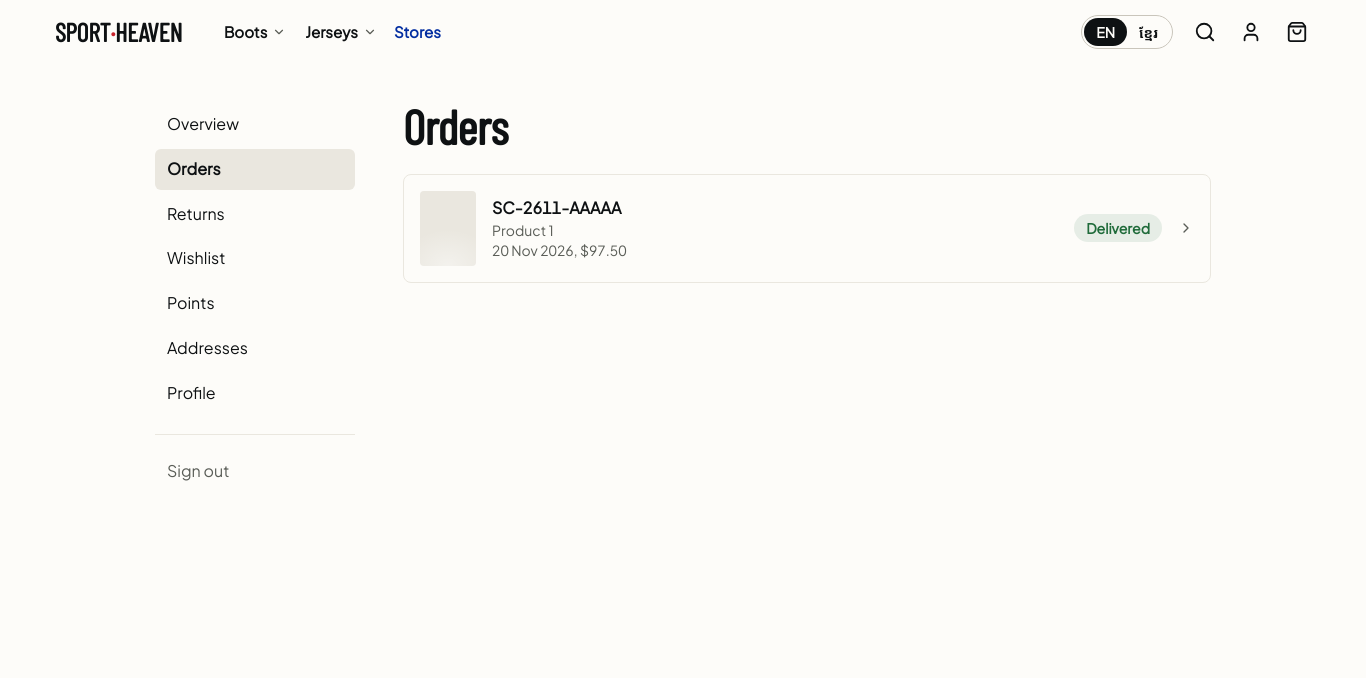
Test case: account › shows an order and starts a return for a delivered item
Click the link "SC-2611-AAAAA Product 1 20 Nov 2026, $97.50 Delivered" at point(448, 228), box x1=404 y1=175 x2=1210 y2=282
(page scrolled)
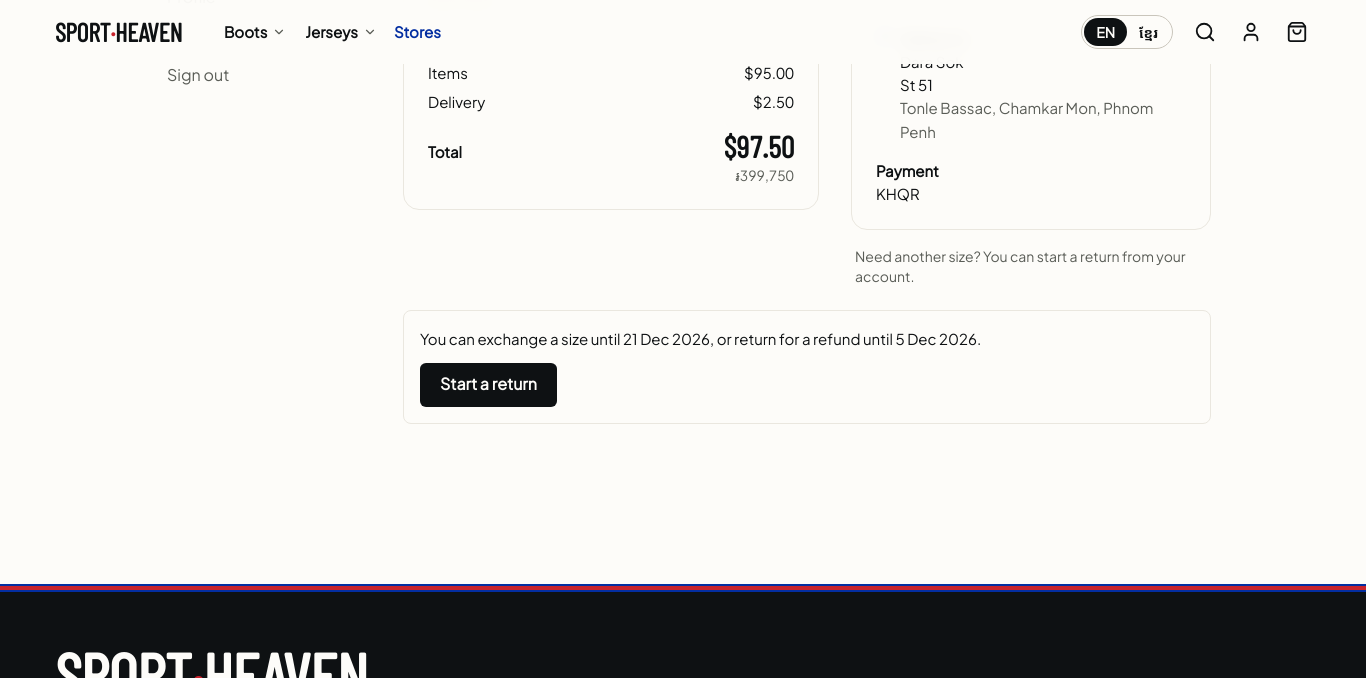
Click the link "Start a return" at point(488, 385), box x1=420 y1=363 x2=557 y2=407
(page scrolled)
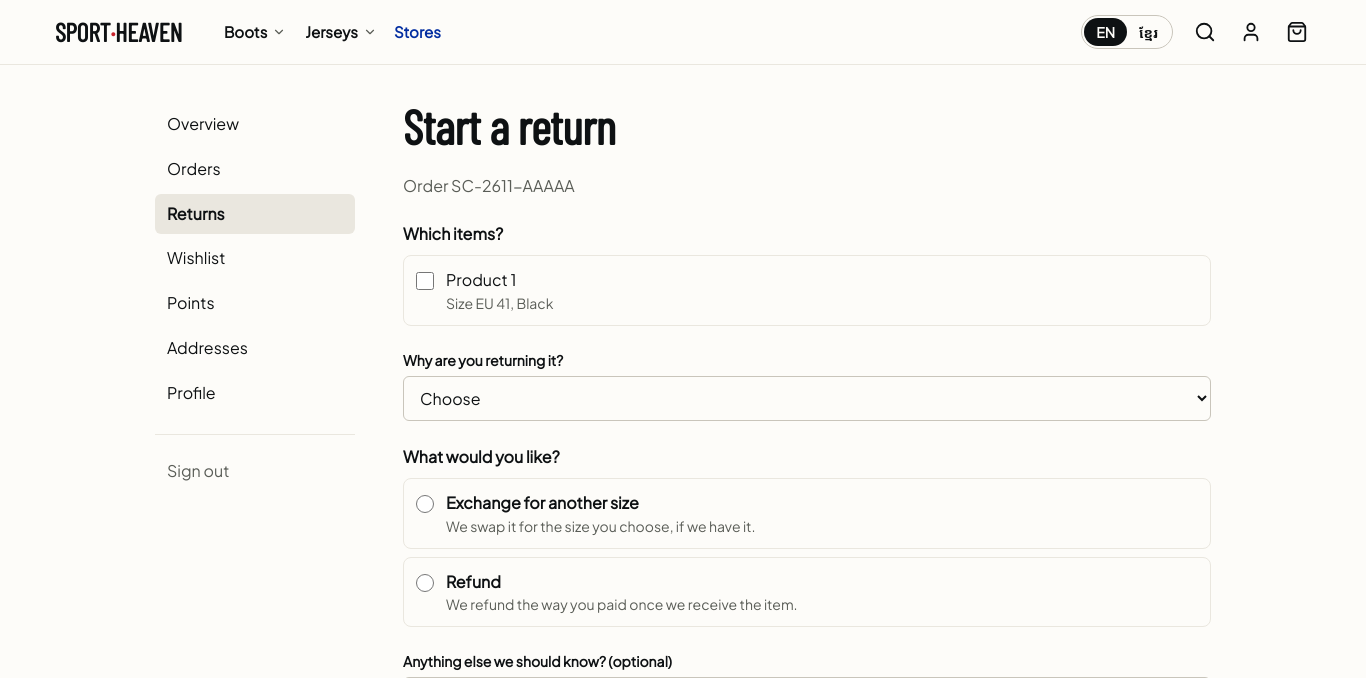
Click the checkbox labelled "Product 1 Size EU 41, Black" at point(425, 281), box x1=416 y1=272 x2=434 y2=290
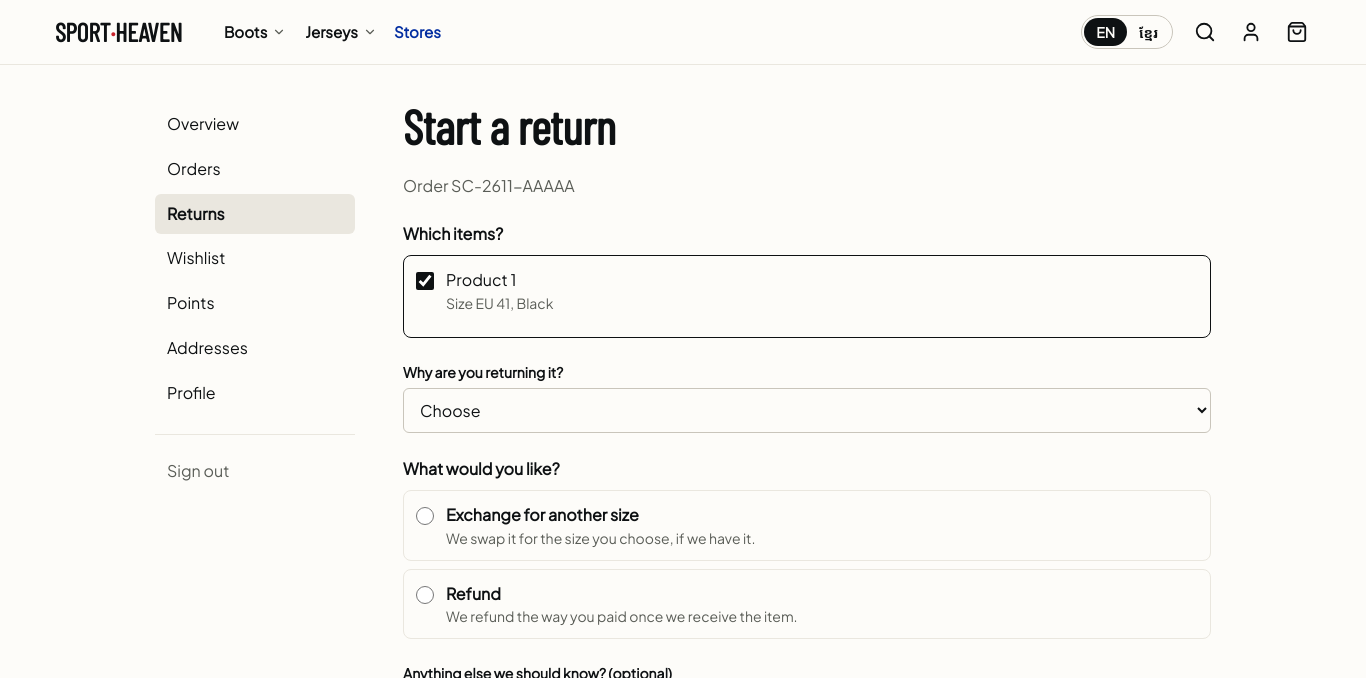
Select "Too small" in the dropdown labelled "Why are you returning it?" at point(807, 410), box x1=403 y1=388 x2=1211 y2=433
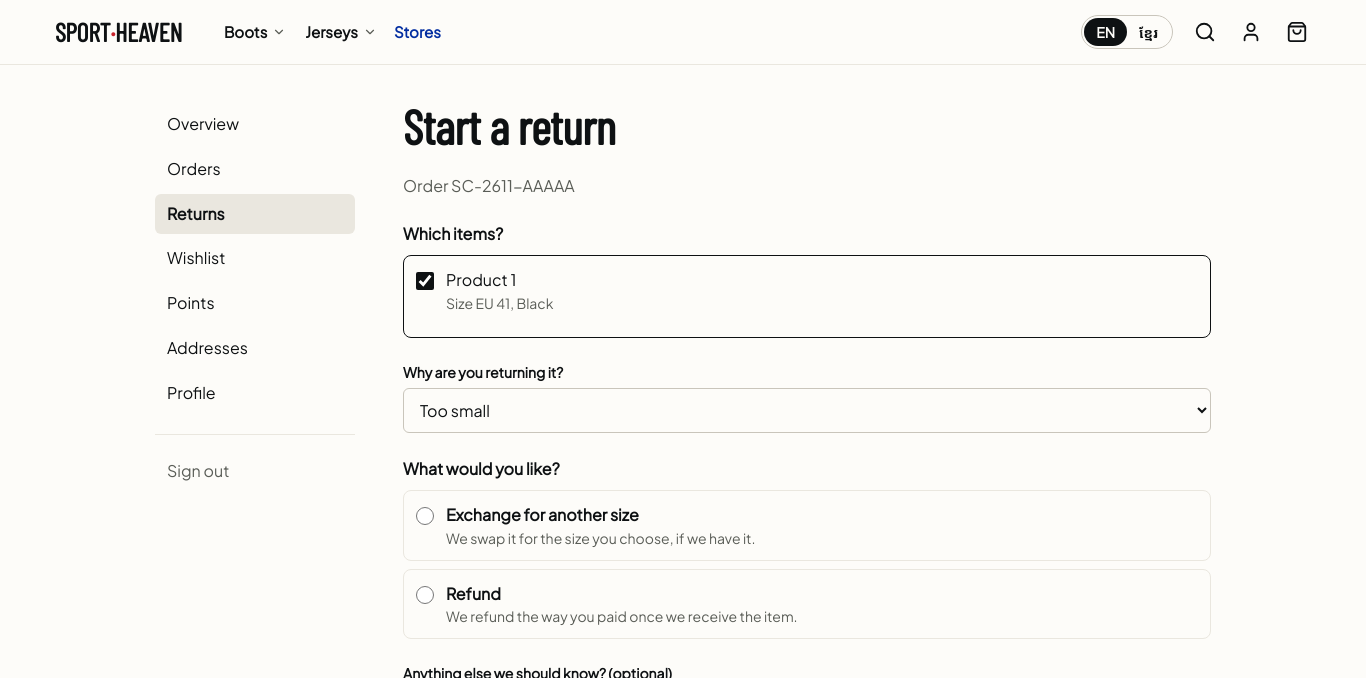
Click the radio button labelled "Refund We refund the way you paid once we receive the item." at point(425, 595), box x1=416 y1=586 x2=434 y2=604
(page scrolled)
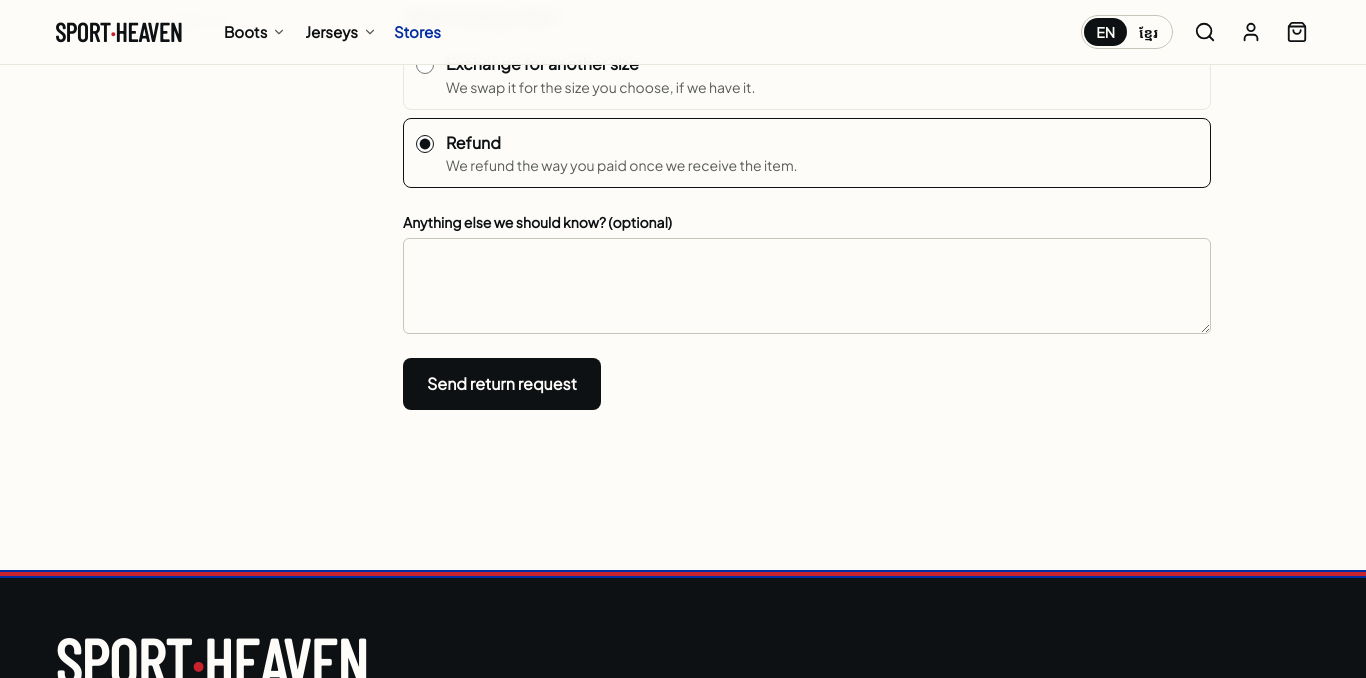
Click the button "Send return request" at point(502, 384), box x1=403 y1=358 x2=601 y2=410
(page scrolled)
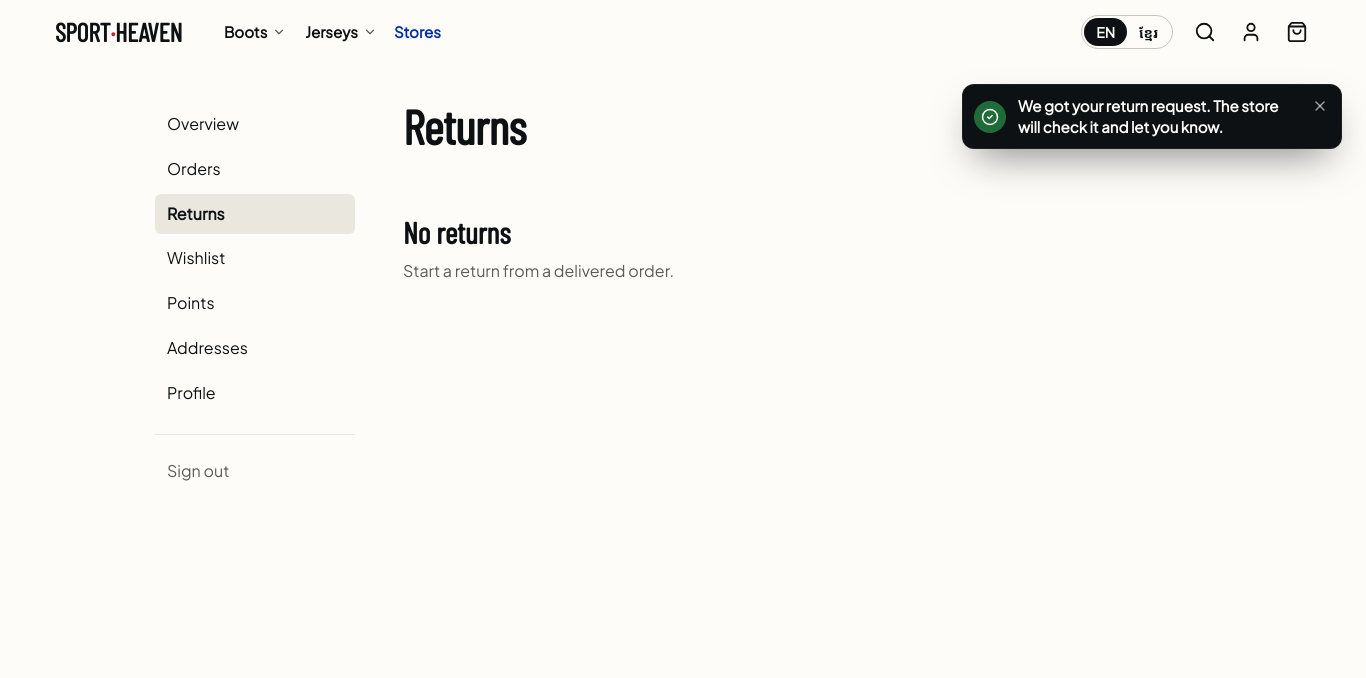
expect the text "We got your return request" is shown: met, box x1=1018 y1=96 x2=1278 y2=136
